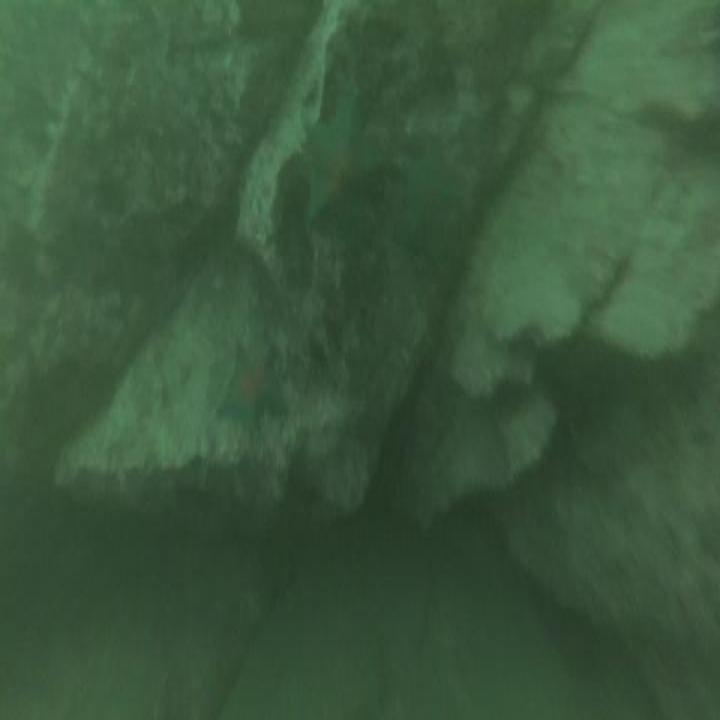starfish: (302, 92, 387, 260), (395, 130, 469, 272), (218, 338, 293, 448)
